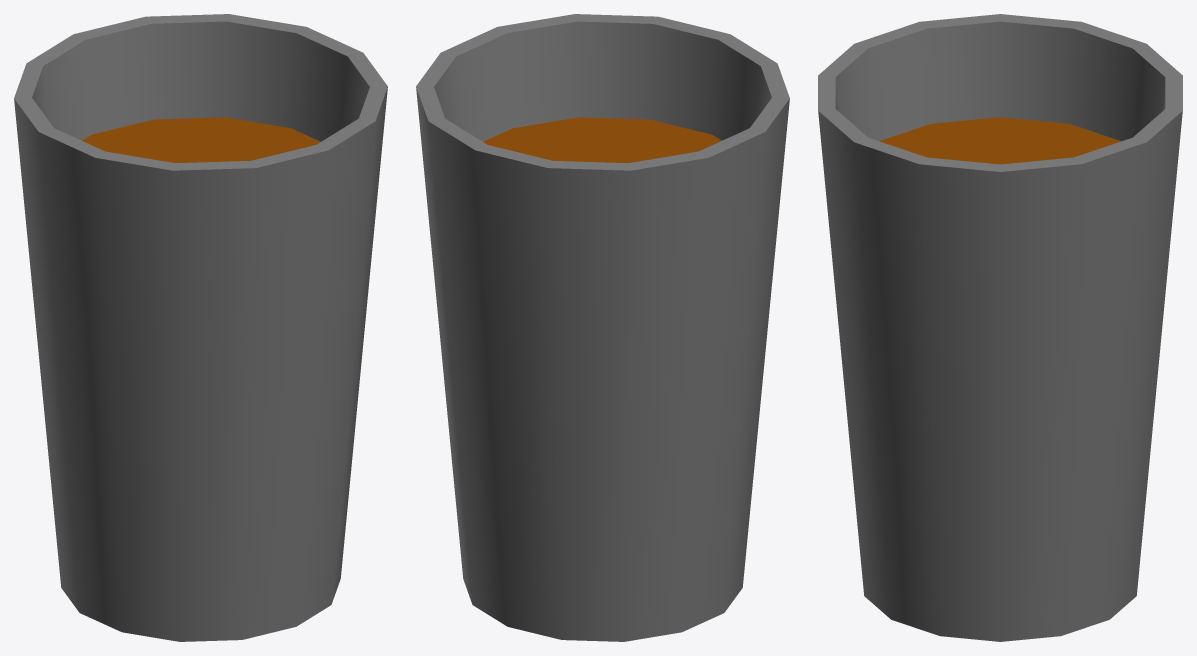
File: Food_tea.FBX
The picture shows the model from 3 angles, left to right: view 1: azimuth 30°, elevation 25°; view 2: azimuth 150°, elevation 25°; view 3: azimuth 270°, elevation 25°; orthographic projection.
Visible parts, largest first — view 1: Cylinder001, Cylinder002; view 2: Cylinder001, Cylinder002; view 3: Cylinder001, Cylinder002.
Part boxes in pixels (x1=…): Cylinder001: x1=14, y1=14, x2=387, y2=641; Cylinder002: x1=82, y1=117, x2=320, y2=163; Cylinder001: x1=416, y1=14, x2=789, y2=641; Cylinder002: x1=483, y1=117, x2=721, y2=163; Cylinder001: x1=818, y1=14, x2=1182, y2=641; Cylinder002: x1=880, y1=117, x2=1120, y2=164.
Bounding box in the file's own units: 43.38 × 62.68 × 42.3.
